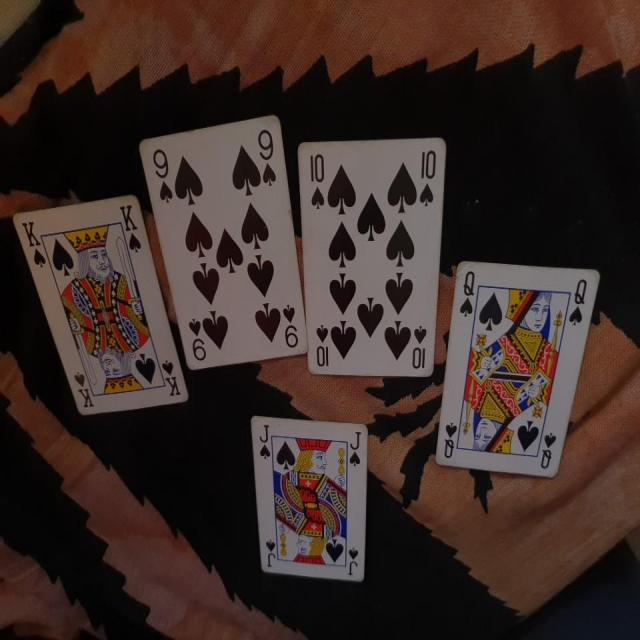10 Spades: (292, 128, 450, 384)
9 Spades: (130, 116, 315, 377)
J Spades: (239, 410, 378, 592)
K Spades: (7, 196, 192, 425)
Q Spades: (435, 257, 601, 489)
